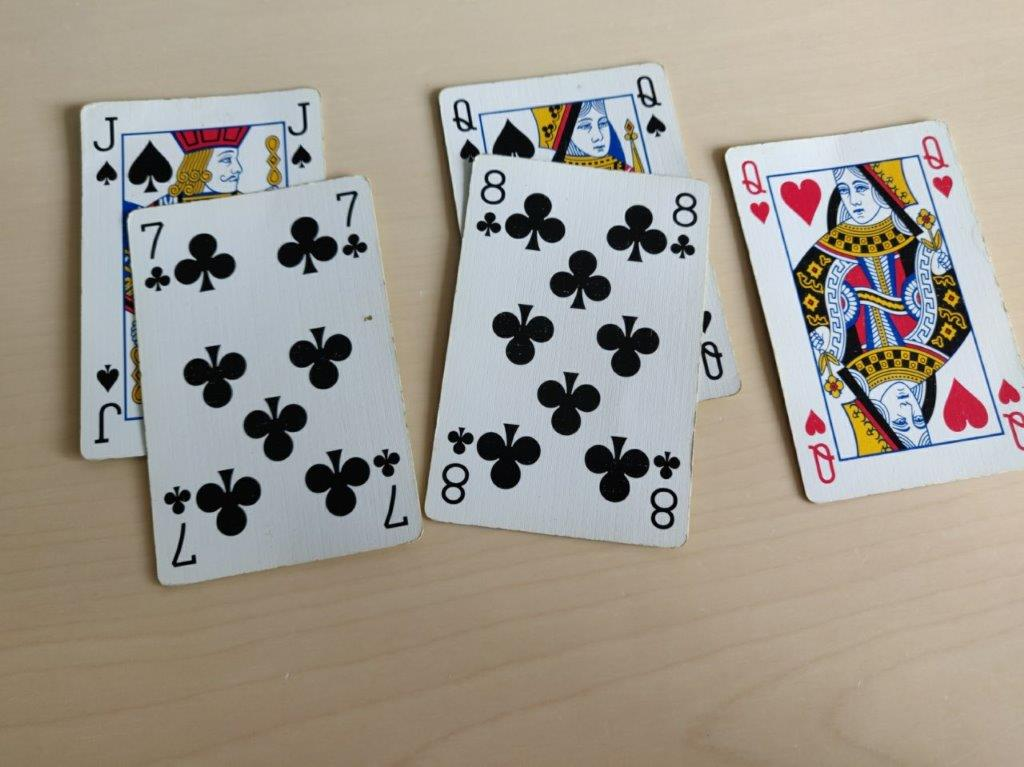7C: (331, 188, 373, 263), (135, 214, 173, 294)
8C: (665, 186, 701, 264), (473, 167, 508, 237)
JS: (86, 112, 123, 189), (283, 98, 315, 171)
QH: (919, 132, 962, 202), (734, 154, 772, 225)
QS: (631, 69, 669, 143), (446, 94, 484, 166)
